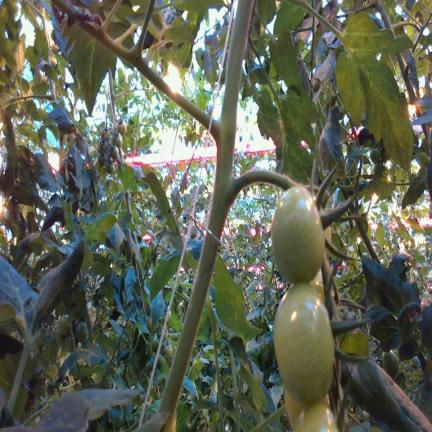6kp_peduncle: (210, 142, 298, 227)
6kp_petiole: (174, 85, 240, 194), (381, 13, 410, 39), (110, 86, 125, 114)
MainStem: (157, 0, 254, 431), (396, 53, 416, 101), (374, 0, 397, 38), (108, 67, 117, 127), (41, 5, 47, 38), (50, 79, 56, 100)
tomato: (274, 282, 334, 405), (272, 186, 324, 282), (284, 389, 337, 430), (293, 402, 338, 431), (382, 351, 398, 378), (58, 314, 70, 335), (76, 322, 88, 342), (54, 325, 65, 346), (64, 332, 75, 352), (116, 119, 126, 135), (150, 335, 159, 352), (147, 315, 156, 332), (115, 133, 122, 149), (112, 146, 119, 160), (163, 346, 172, 356), (361, 410, 369, 421), (157, 355, 163, 368), (107, 163, 114, 174), (102, 127, 109, 138), (50, 55, 57, 66), (52, 44, 59, 53), (41, 75, 47, 85)
